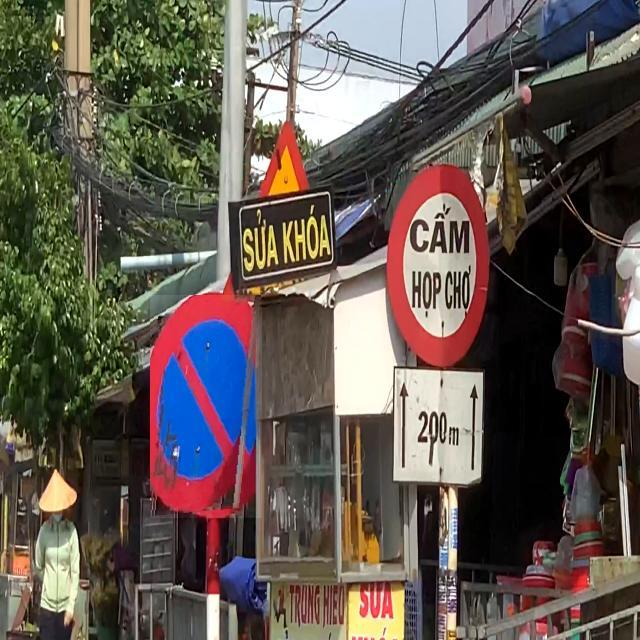P-131a: (150, 295, 262, 518)
